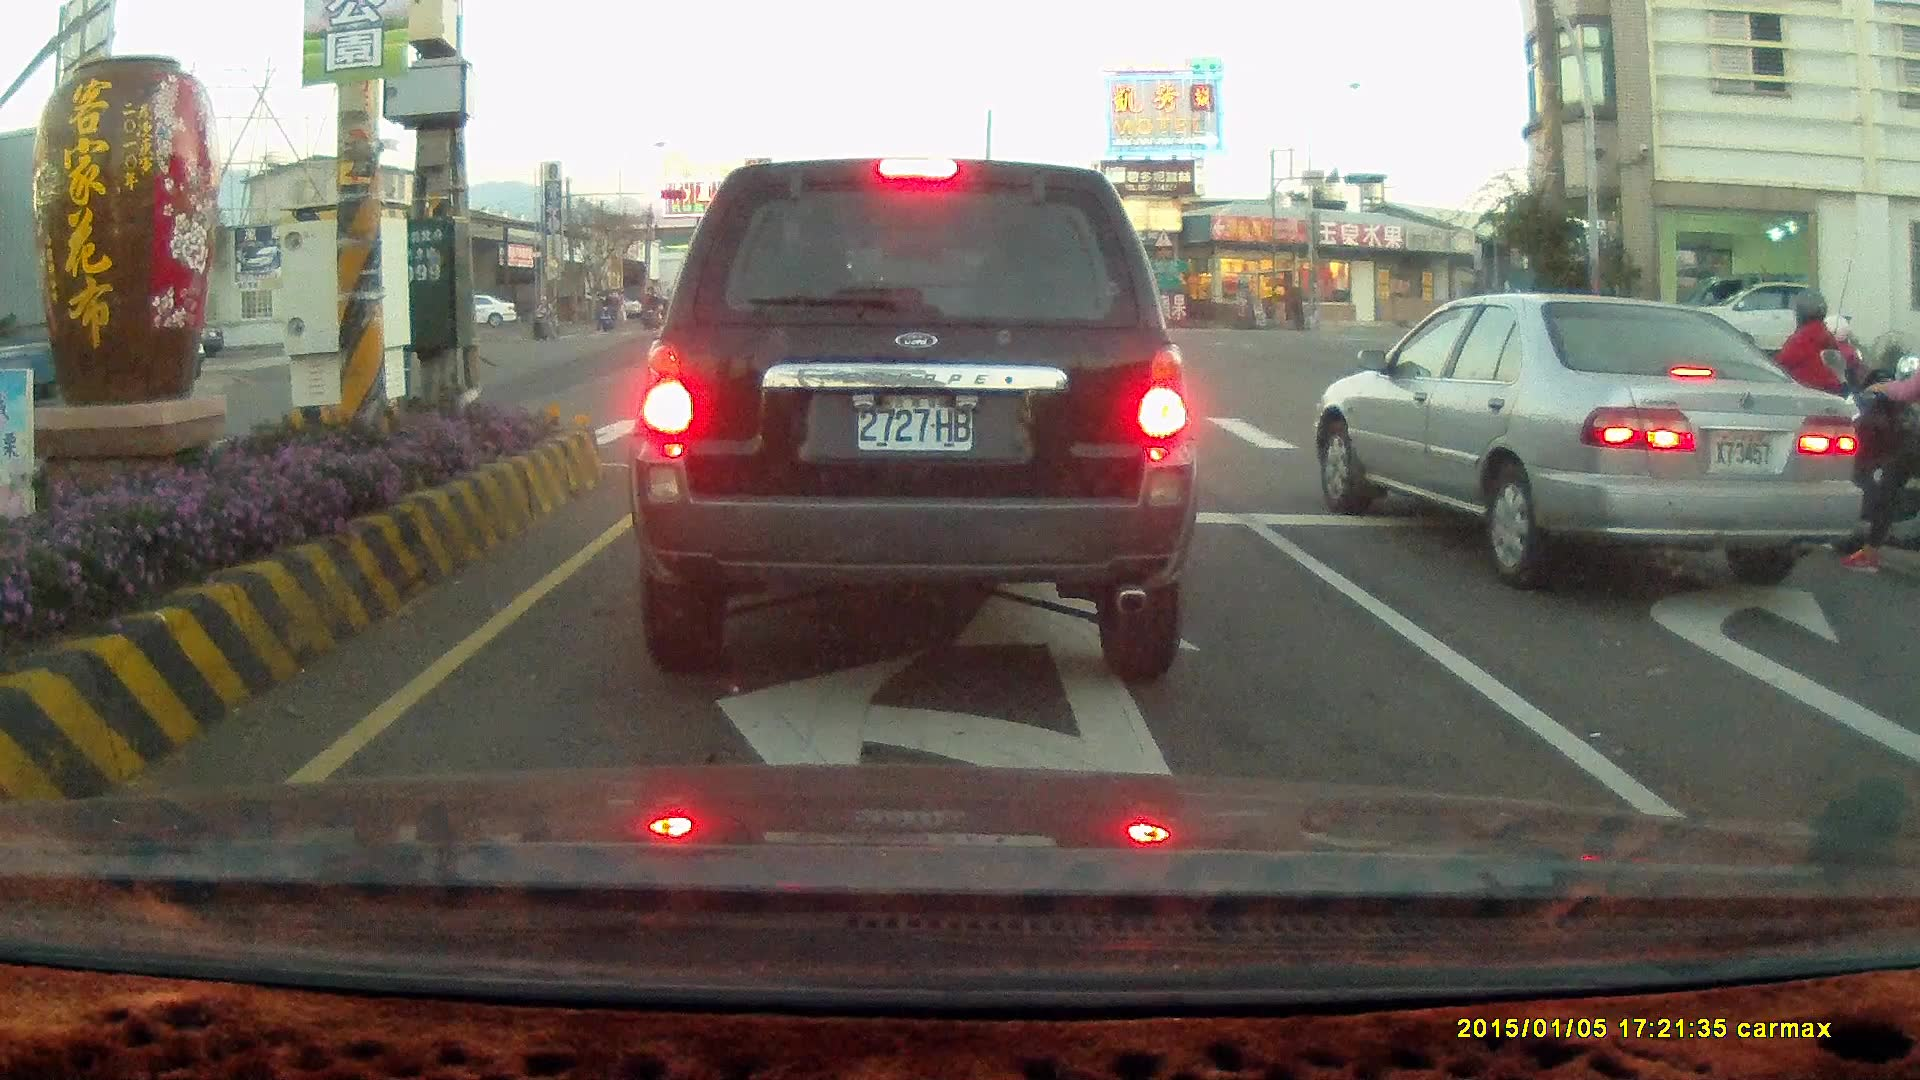rider: (1720, 287, 1860, 543), (1816, 343, 1920, 574), (529, 289, 562, 339), (595, 293, 616, 334), (645, 292, 666, 329)
vehicle: (624, 156, 1199, 685), (1308, 290, 1861, 590), (1321, 293, 1866, 576), (1655, 276, 1866, 372), (1668, 275, 1823, 373), (1896, 493, 1920, 836)
